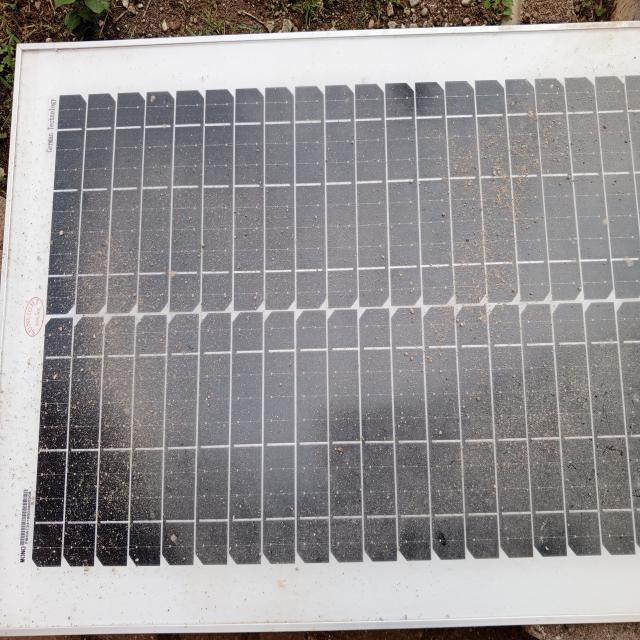Surface Contaminant: (50, 84, 639, 561)
